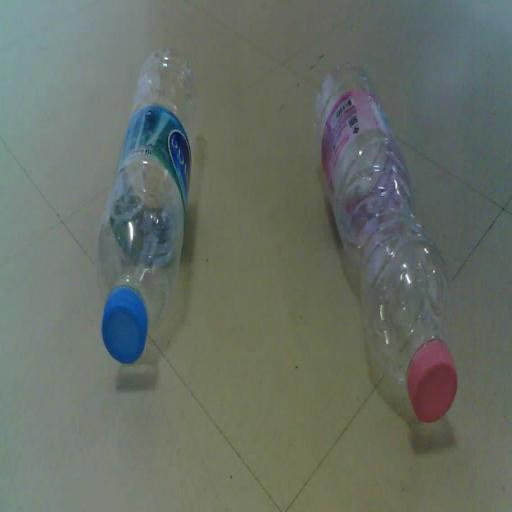bottle: (314, 64, 453, 427), (96, 50, 197, 366)
